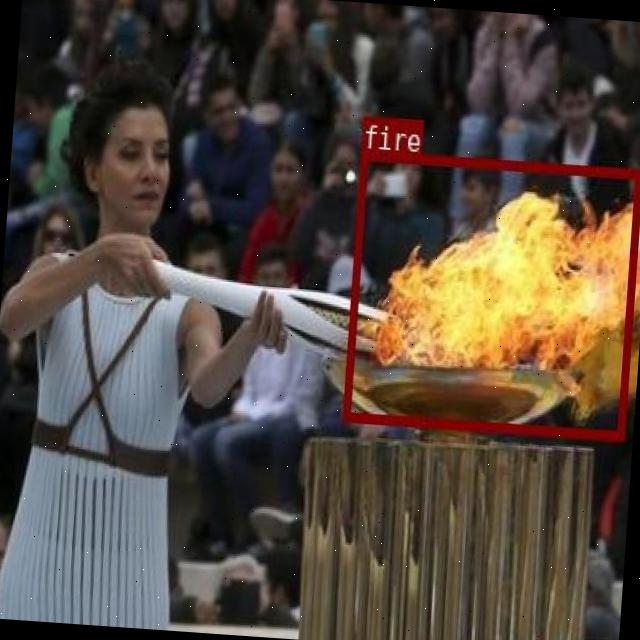fire: (341, 148, 640, 437)
